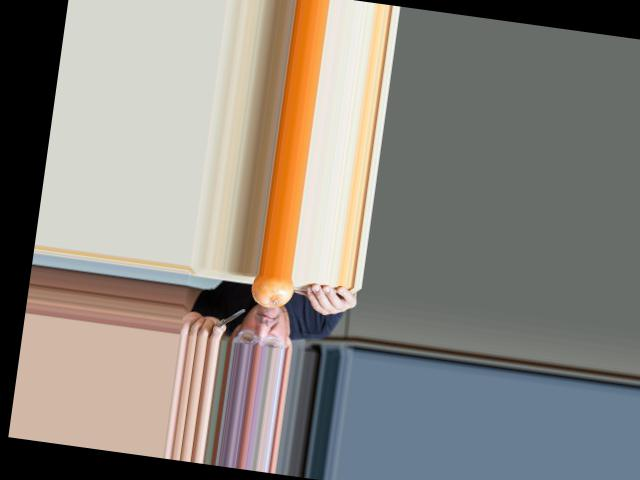onion: (248, 273, 295, 310)
